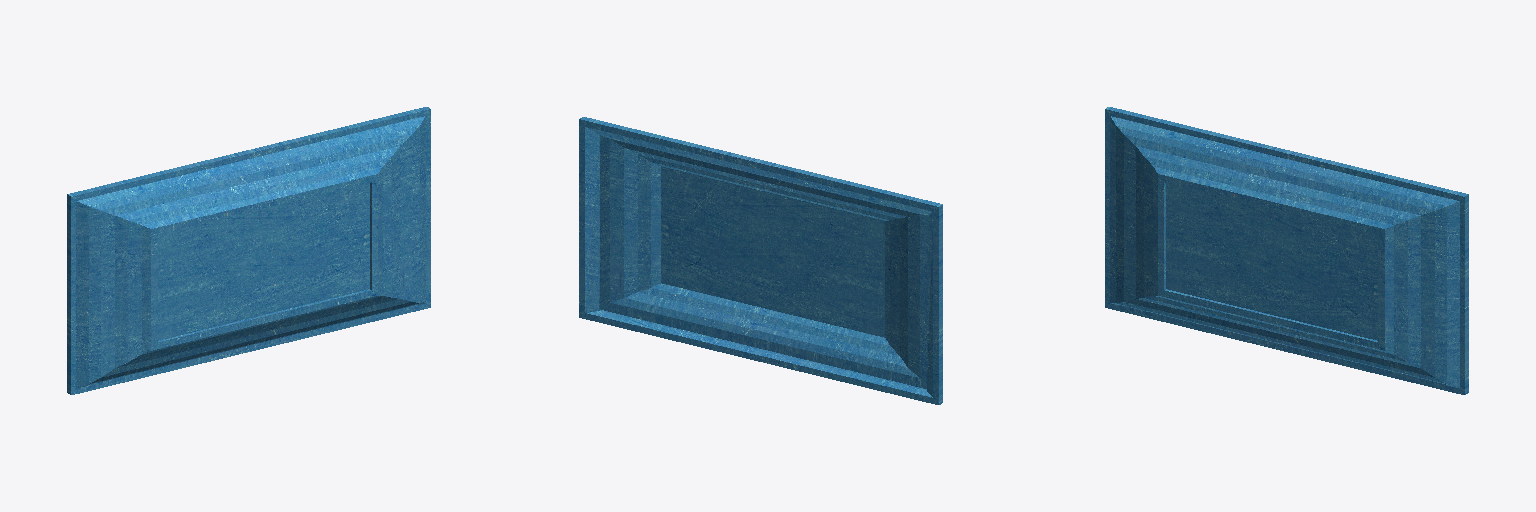
3 views of the same model, side by side, from view 1: azimuth 30°, elevation 25°; view 2: azimuth 150°, elevation 25°; view 3: azimuth 330°, elevation 25° (orthographic).
Parts seen in each view (by area): view 1: Cube.018_Cube.019; view 2: Cube.018_Cube.019; view 3: Cube.018_Cube.019.
Boxes of the visible parts, box(x1,y1,x2,y2) form: Cube.018_Cube.019: box(67, 107, 430, 394); Cube.018_Cube.019: box(579, 117, 942, 404); Cube.018_Cube.019: box(1105, 107, 1468, 394).
Size of the model in its own units: 0.042 by 0.0222 by 0.0035.
Materials: 1 (1 with a texture image).